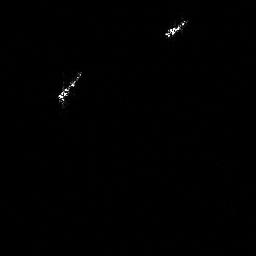ship: (57, 71, 81, 101), (166, 18, 188, 38)
